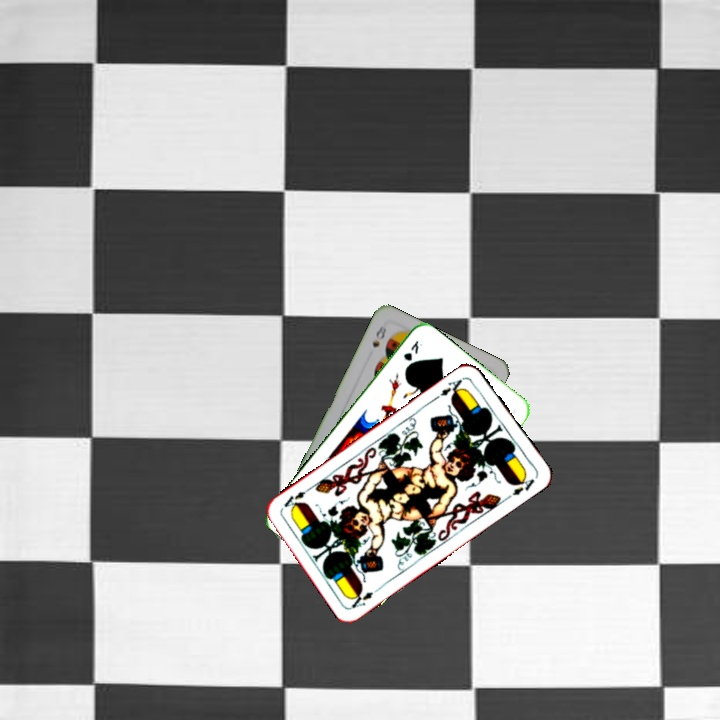EA: (431, 373, 467, 402), (348, 587, 376, 611)
GK: (399, 336, 425, 364)
S8: (368, 322, 389, 350)
